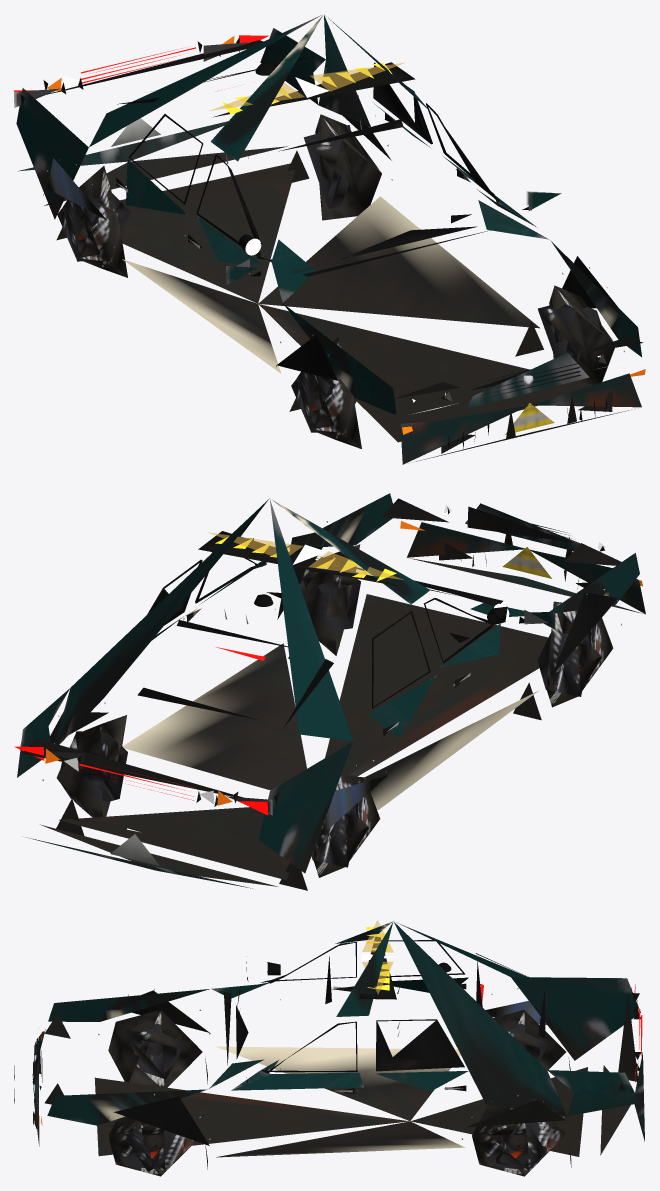
Rendered from cab_lod2.glb.
The picture shows the model from 3 angles, top to bottom: view 1: azimuth 30°, elevation 25°; view 2: azimuth 150°, elevation 25°; view 3: azimuth 270°, elevation 25°; orthographic projection. The views are drawn at different scales.
Parts seen in each view (by area): view 1: Body; view 2: Body; view 3: Body.
Boxes of the visible parts, x1,y1,x2,y2 form: Body: (14, 15, 645, 464); Body: (14, 493, 645, 890); Body: (14, 920, 645, 1176).
Size of what is drawn, in the model's own units: 2.19 by 1.8 by 4.61.
Materials: 2 (2 with a texture image).
